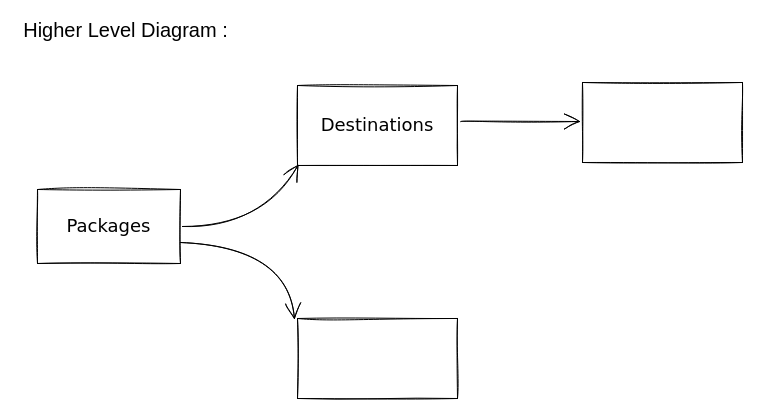
Some shapes in this 760 by 416 pixel diagram are drawn without their labels. Here are the shapes that lost their labels. From the top down, the box of each, then its label:
(582, 82, 742, 162): Activities
(296, 318, 458, 398): Passengers
